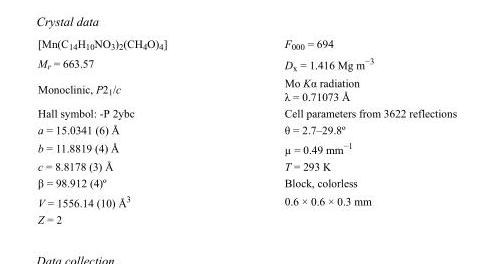table: (37, 36, 456, 225)
table column: (225, 36, 456, 225), (37, 36, 225, 225)
table row: (37, 74, 456, 104), (37, 53, 456, 74), (37, 137, 456, 157), (37, 191, 456, 210), (37, 36, 456, 53), (37, 104, 456, 121), (37, 157, 456, 174), (37, 174, 456, 191), (37, 121, 456, 137), (37, 210, 456, 225)
